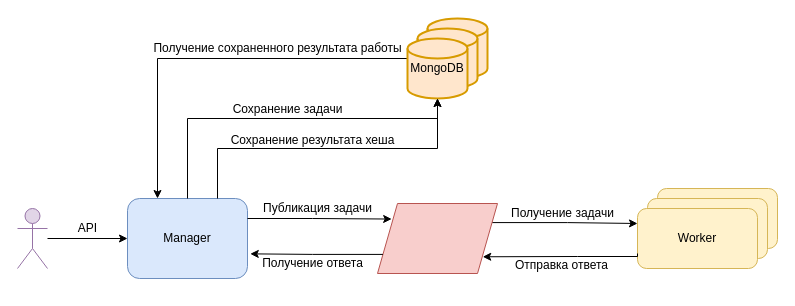
The diagram is 795 pixels wide and 306 high, and some of its shapes have lost their labels. The shapes that lost their labels are listed below. From the top down, each one's centre as x and y in pixels, then its label:
At (32,238): "Client".
At (437,238): "RabbitMQ".
